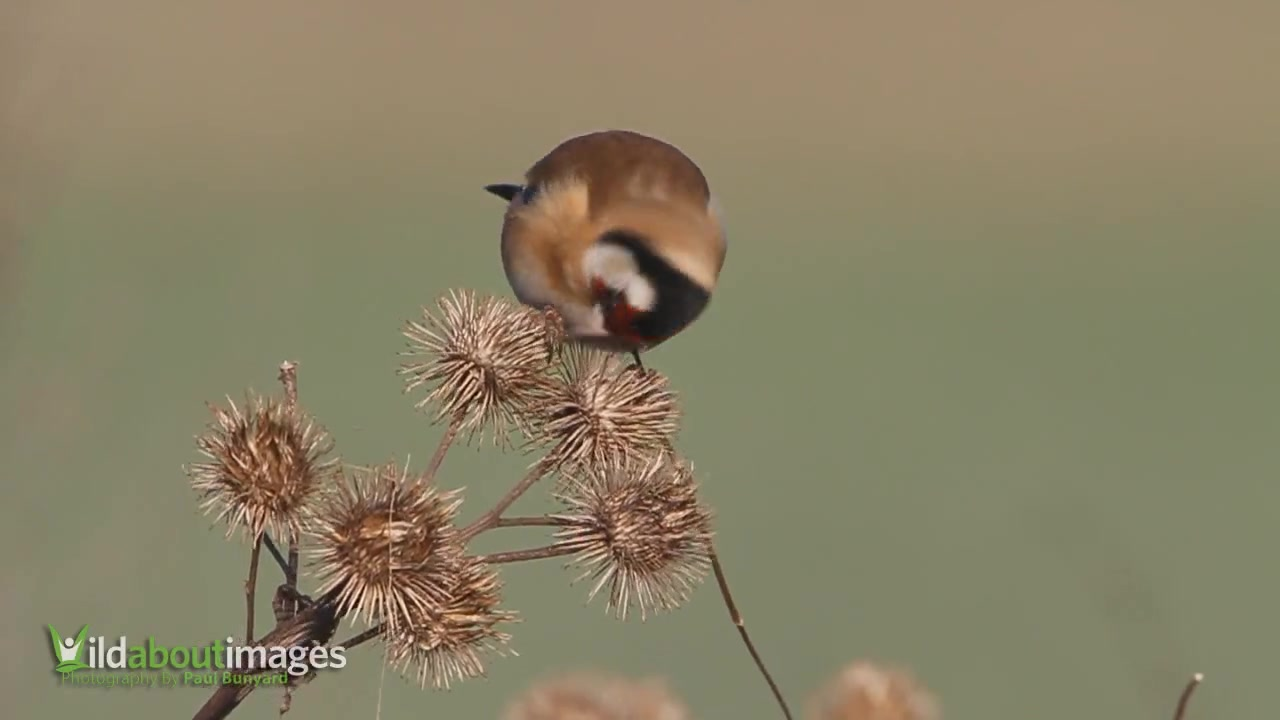bird: (486, 131, 730, 355)
